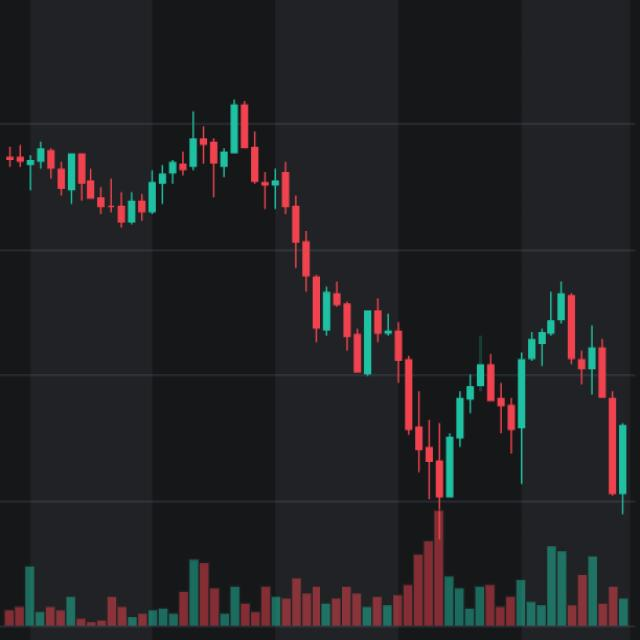Channel-down: (173, 69, 514, 553)
